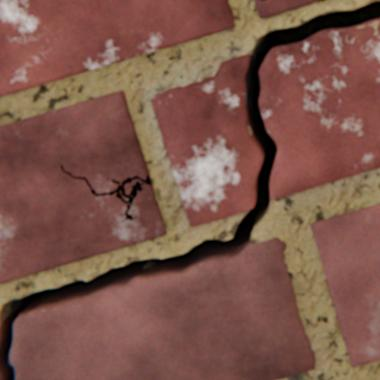brick: (0, 90, 166, 283), (0, 0, 235, 97), (311, 203, 379, 365), (255, 0, 323, 18), (125, 178, 143, 193)
broken_brick: (11, 237, 315, 379), (259, 18, 379, 198), (152, 54, 263, 226)
crack: (0, 0, 379, 379), (61, 164, 151, 219), (113, 179, 120, 182)
